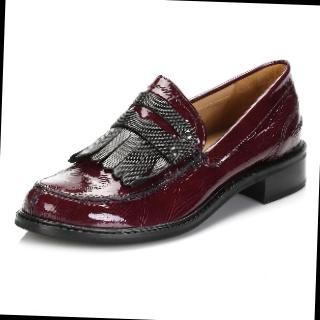loafers: (3, 38, 315, 272)
